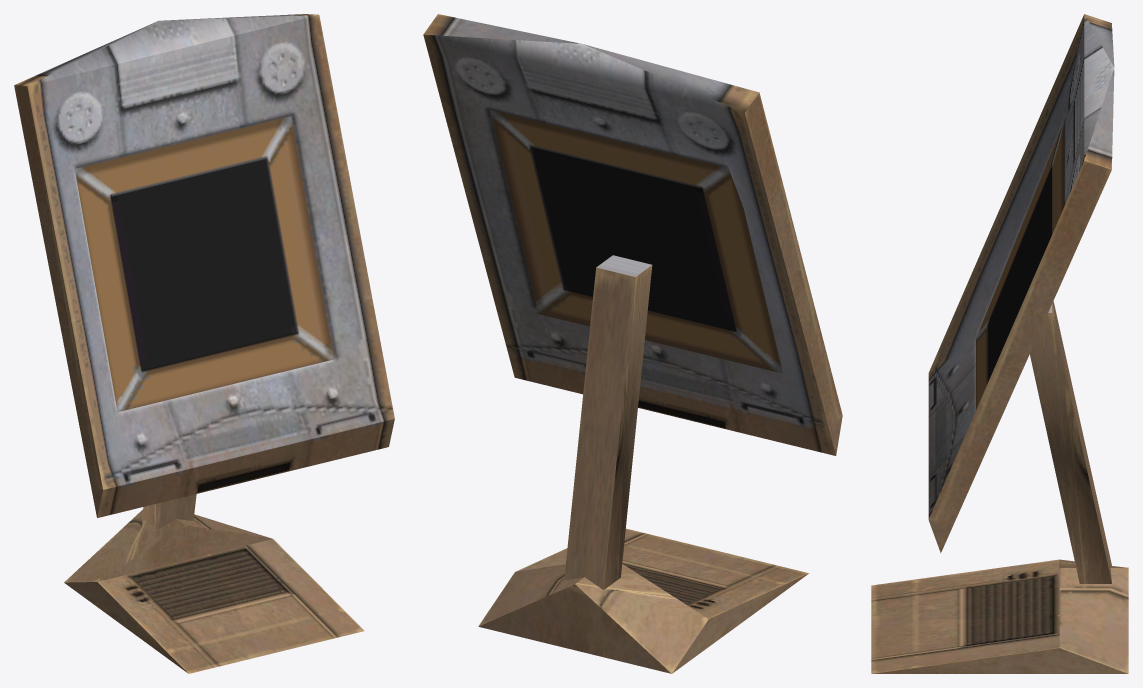
File: eqp_diagnostic_screen_l2.fbx
3 views of the same model, side by side, from view 1: azimuth 30°, elevation 25°; view 2: azimuth 150°, elevation 25°; view 3: azimuth 270°, elevation 25° (orthographic). The views are drawn at different scales.
Visible parts, largest first — view 1: mesh_node; view 2: mesh_node; view 3: mesh_node.
Boxes of the visible parts, left/top/right/bottom form: mesh_node: left=14, top=14, right=394, bottom=673; mesh_node: left=423, top=14, right=842, bottom=673; mesh_node: left=871, top=14, right=1128, bottom=673.
Size of the model in its own units: 0.2262 by 0.4039 by 0.1676.
2 materials, 2 textured.
